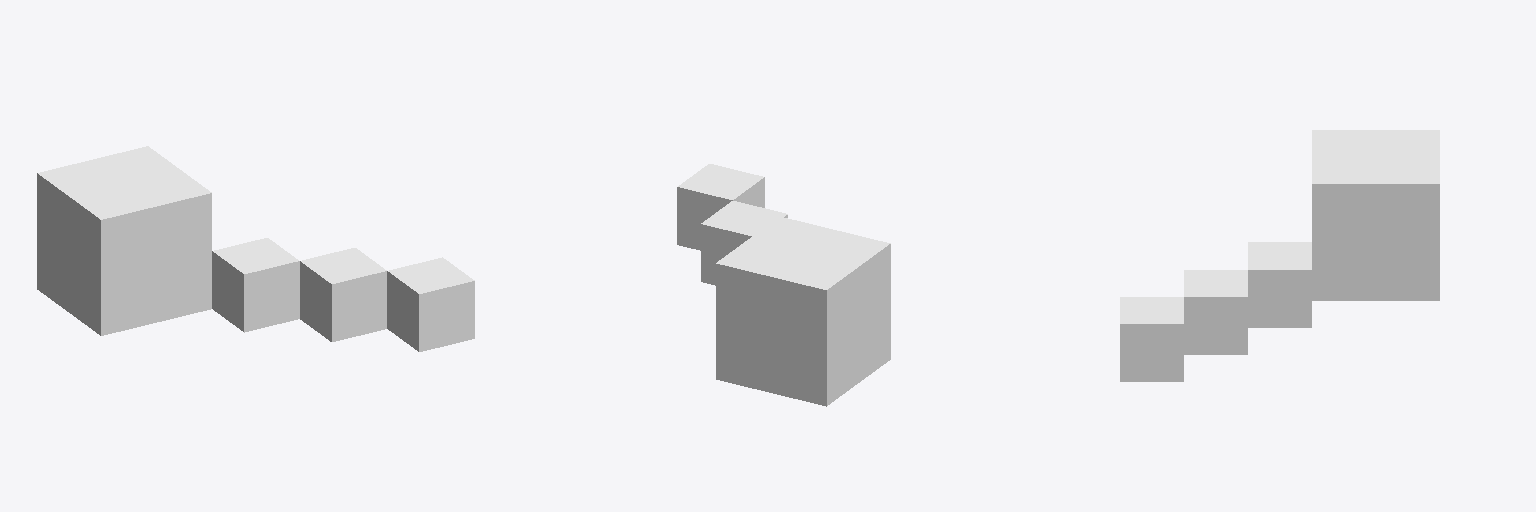
The model's file is Brush.obj.
The picture shows the model from 3 angles: view 1: azimuth 30°, elevation 25°; view 2: azimuth 150°, elevation 25°; view 3: azimuth 270°, elevation 25°; orthographic projection.
Parts seen in each view (by area): view 1: Brush; view 2: Brush; view 3: Brush.
Boxes of the visible parts, <box> form: Brush: <box>37,146,474,351</box>; Brush: <box>677,164,890,406</box>; Brush: <box>1120,130,1439,381</box>.
Size of the model in its own units: 5 by 2 by 5.